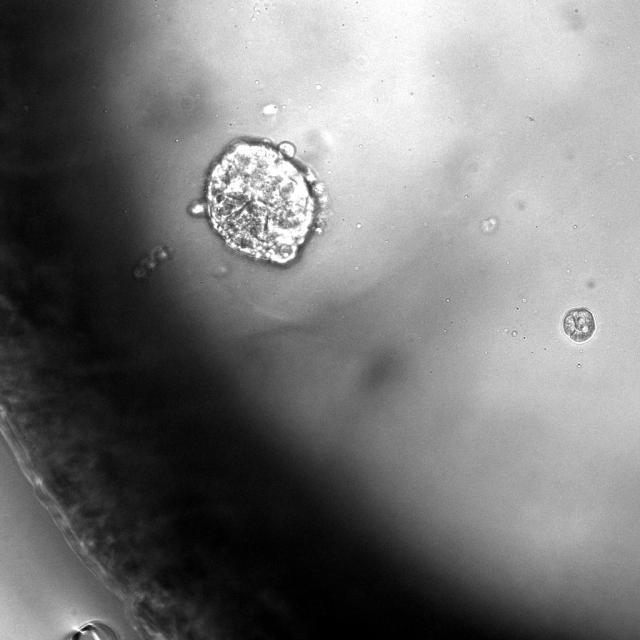organoid: (190, 137, 326, 264), (562, 307, 596, 343), (134, 245, 172, 277)
